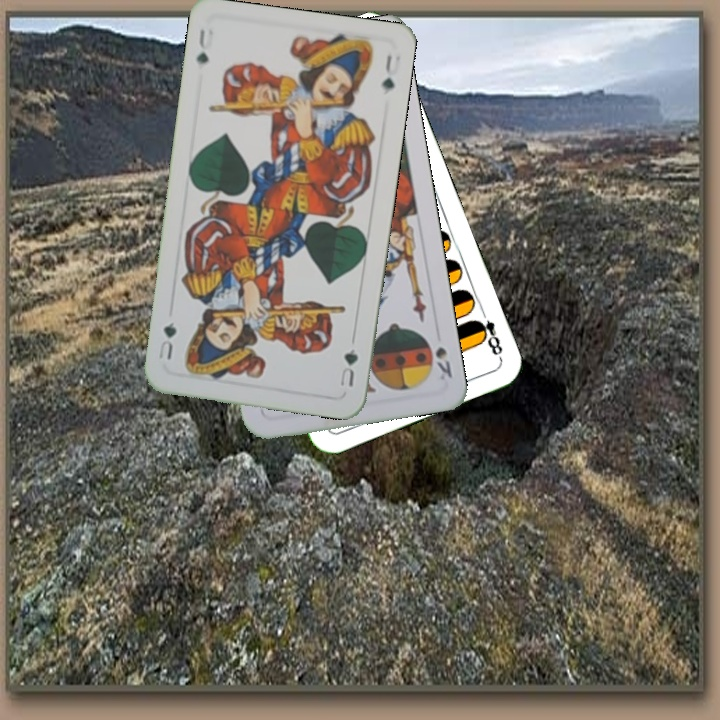E8: (469, 305, 505, 362)
GU: (336, 344, 361, 389), (192, 25, 212, 67)
SK: (431, 342, 455, 383)
